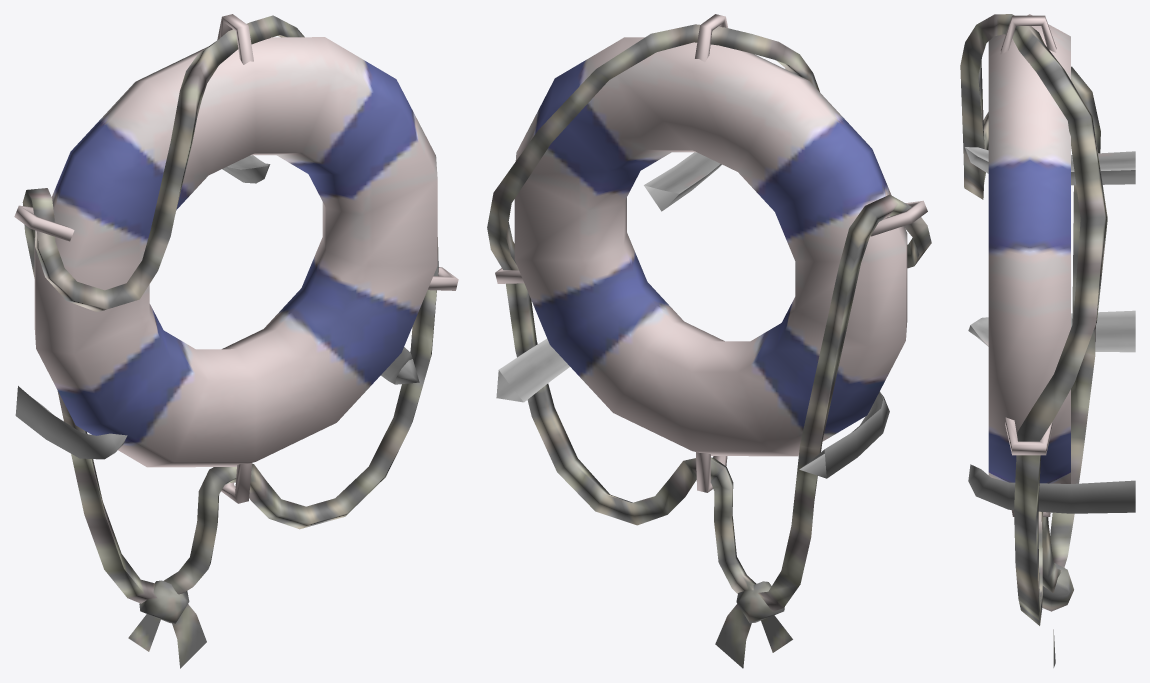
File: rmk_oth_lifebelt_wall.dae
3 views of the same model, side by side, from view 1: azimuth 30°, elevation 25°; view 2: azimuth 150°, elevation 25°; view 3: azimuth 270°, elevation 25° (orthographic). The views are drawn at different scales.
Parts seen in each view (by area): view 1: rmk_oth_lifebelt_wall; view 2: rmk_oth_lifebelt_wall; view 3: rmk_oth_lifebelt_wall.
Boxes of the visible parts, x1,y1,x2,y2 form: rmk_oth_lifebelt_wall: (14, 14, 458, 668); rmk_oth_lifebelt_wall: (487, 14, 931, 668); rmk_oth_lifebelt_wall: (960, 14, 1135, 667).
Bounding box in the file's own units: 21.31 × 30.73 × 7.26.
Materials: 1 (1 with a texture image).
